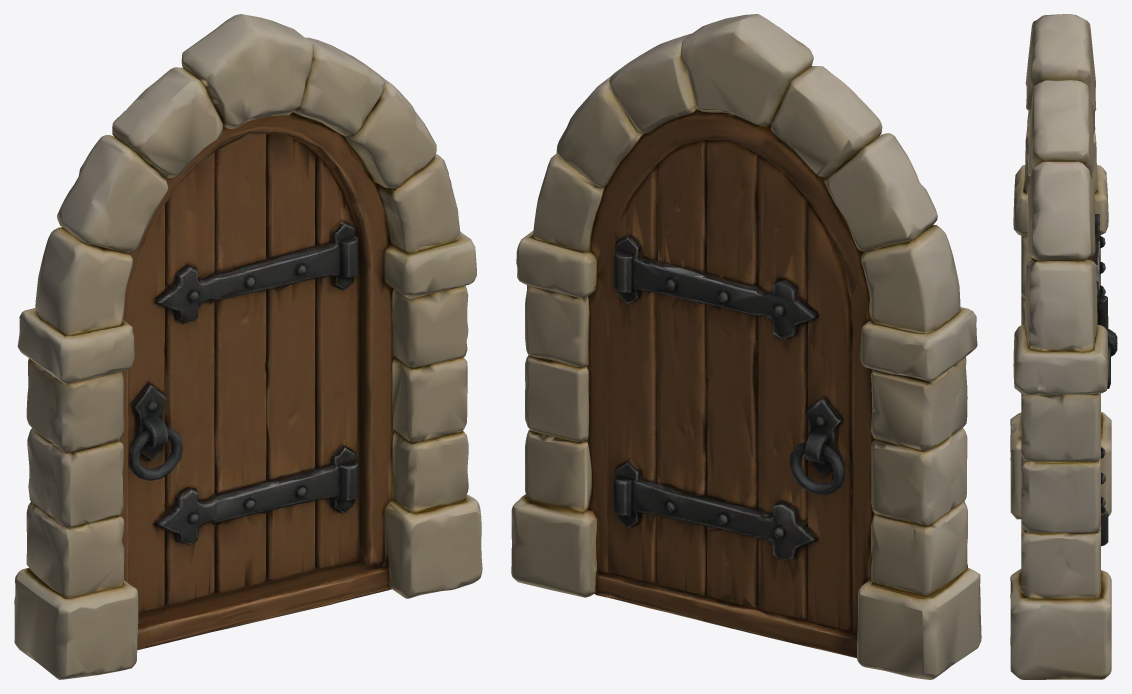
The model's file is mod_door_a.glb.
3 views of the same model, side by side, from view 1: azimuth 30°, elevation 25°; view 2: azimuth 150°, elevation 25°; view 3: azimuth 270°, elevation 25° (orthographic). The views are drawn at different scales.
Parts seen in each view (by area): view 1: tripo_node_a4861236-ad98-44f0-a81e-830093c8b996; view 2: tripo_node_a4861236-ad98-44f0-a81e-830093c8b996; view 3: tripo_node_a4861236-ad98-44f0-a81e-830093c8b996.
Part boxes in pixels (<box>): tripo_node_a4861236-ad98-44f0-a81e-830093c8b996: <box>14,14,482,679</box>; tripo_node_a4861236-ad98-44f0-a81e-830093c8b996: <box>511,14,981,679</box>; tripo_node_a4861236-ad98-44f0-a81e-830093c8b996: <box>1010,14,1117,679</box>.
Bounding box in the file's own units: 0.7233 × 0.9796 × 0.1666.
1 material, 1 textured.
